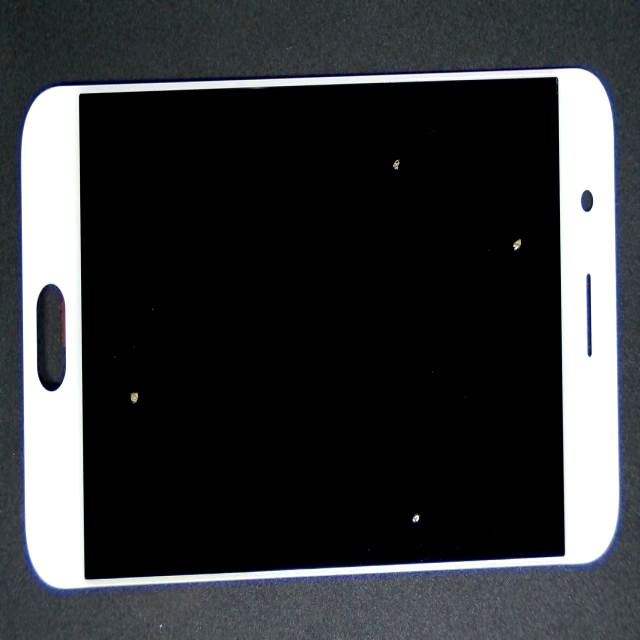stain: (231, 236, 627, 640), (278, 93, 640, 330), (168, 78, 583, 281), (23, 175, 182, 615)
